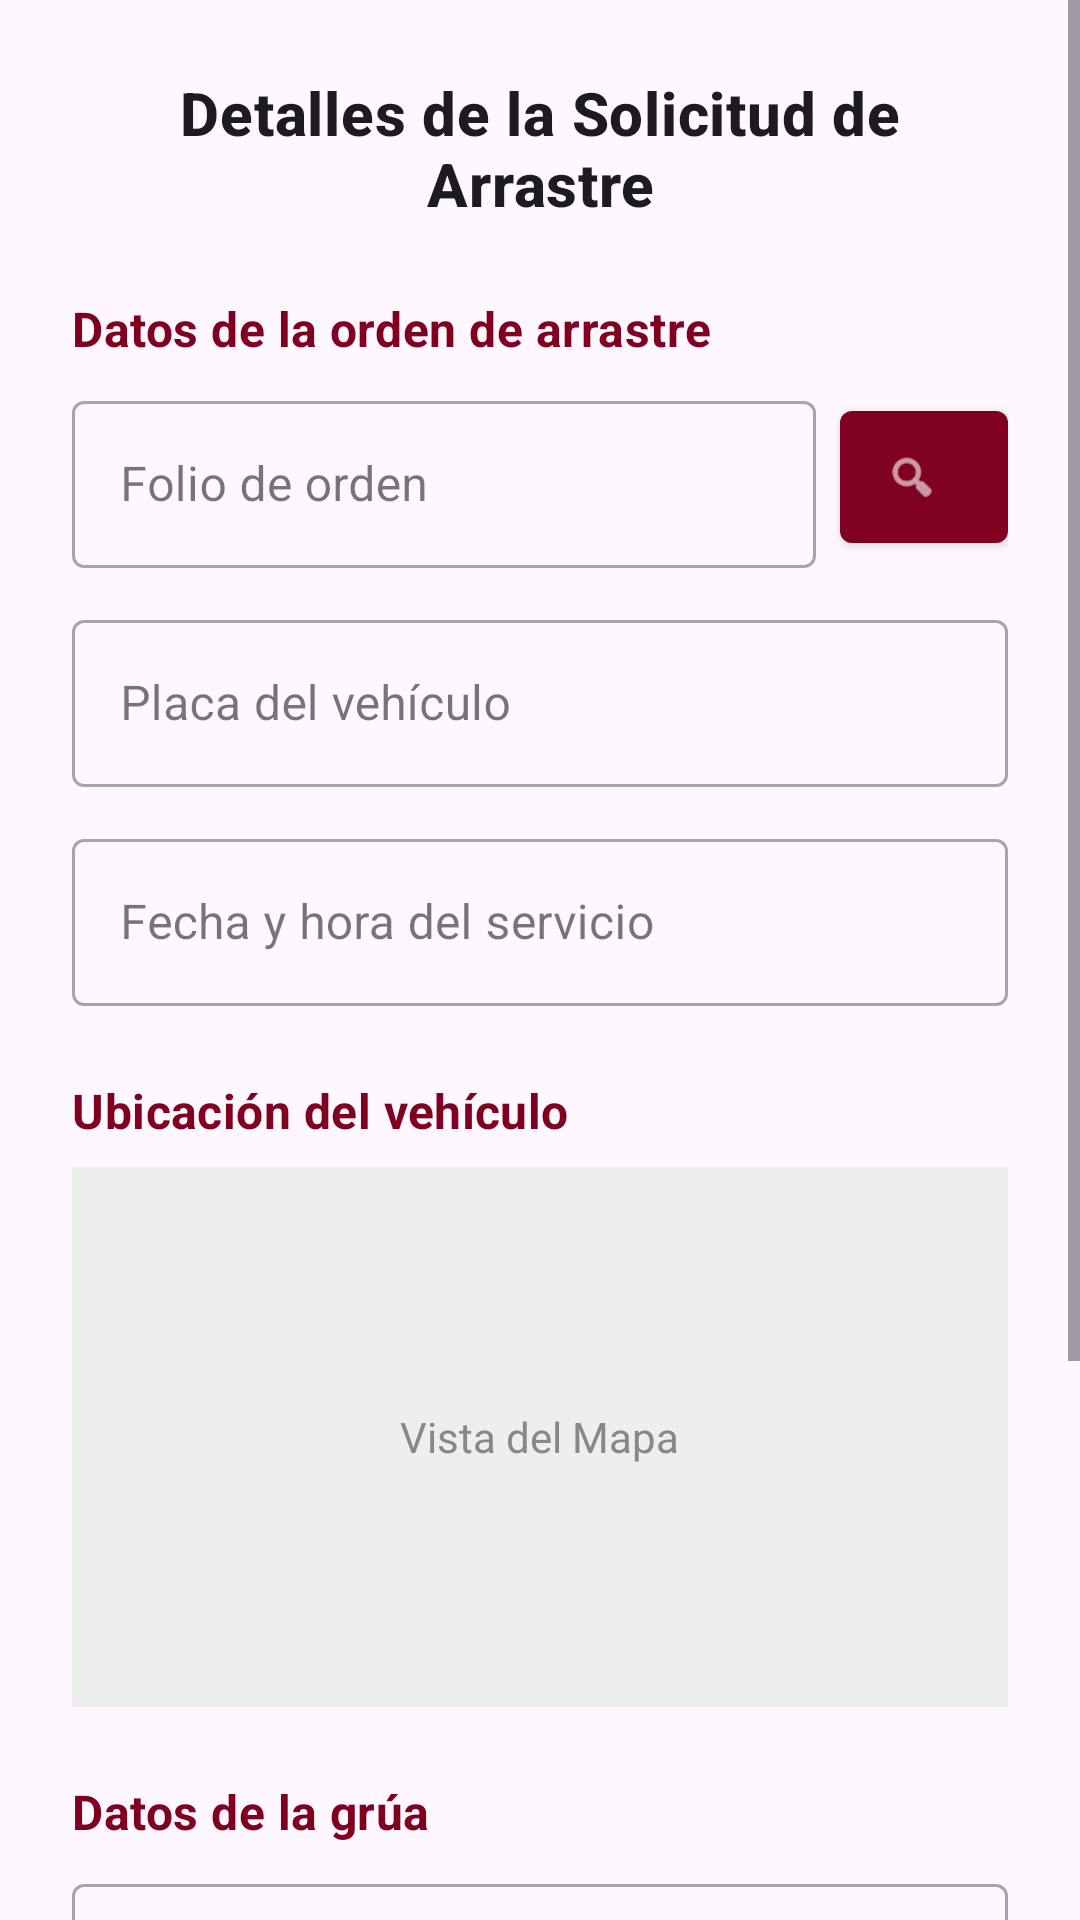

Icons on this 1080*1920 Android screen, each with the point to tap as [x,y]:
search: [924,477]
